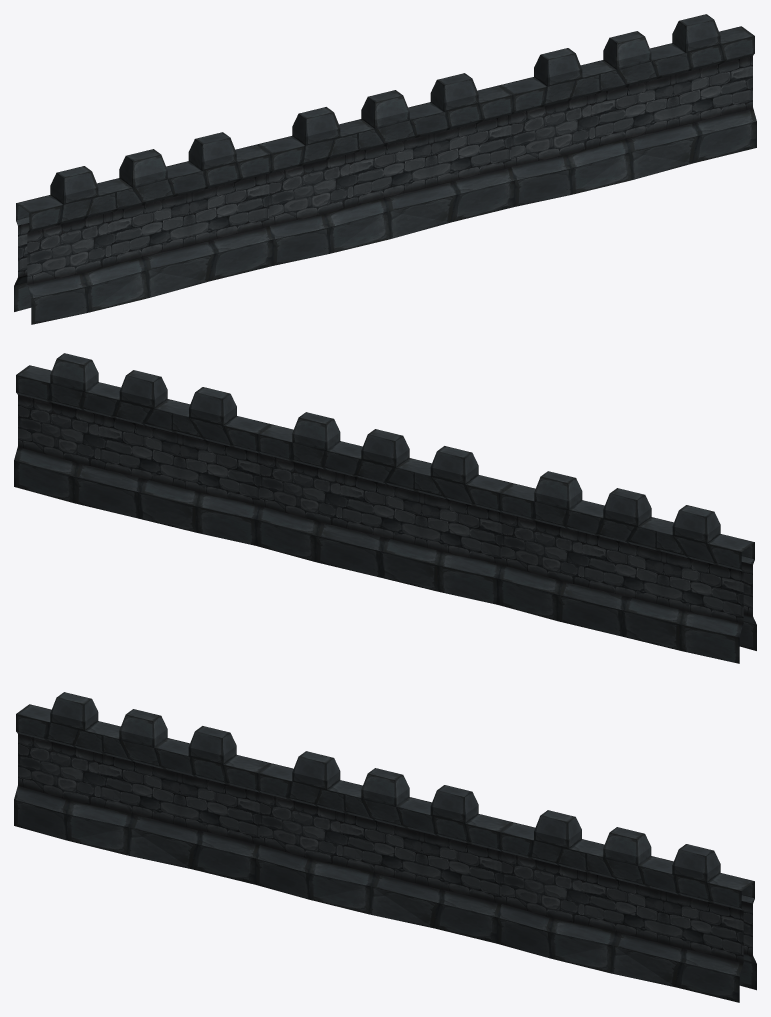
The model's file is cp_wall3.FBX.
3 views of the same model, one above another, from view 1: azimuth 30°, elevation 25°; view 2: azimuth 150°, elevation 25°; view 3: azimuth 330°, elevation 25° (orthographic).
Parts seen in each view (by area): view 1: wall03; view 2: wall03; view 3: wall03.
Boxes of the visible parts, x1,y1,x2,y2 form: wall03: [14, 14, 756, 324]; wall03: [14, 353, 756, 663]; wall03: [14, 692, 756, 1002].
Size of the model in its own units: 219 by 38.66 by 11.
